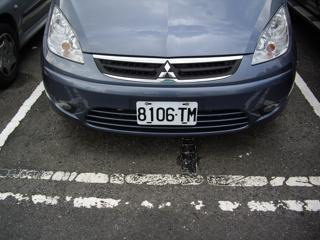plate: (134, 99, 200, 128)
